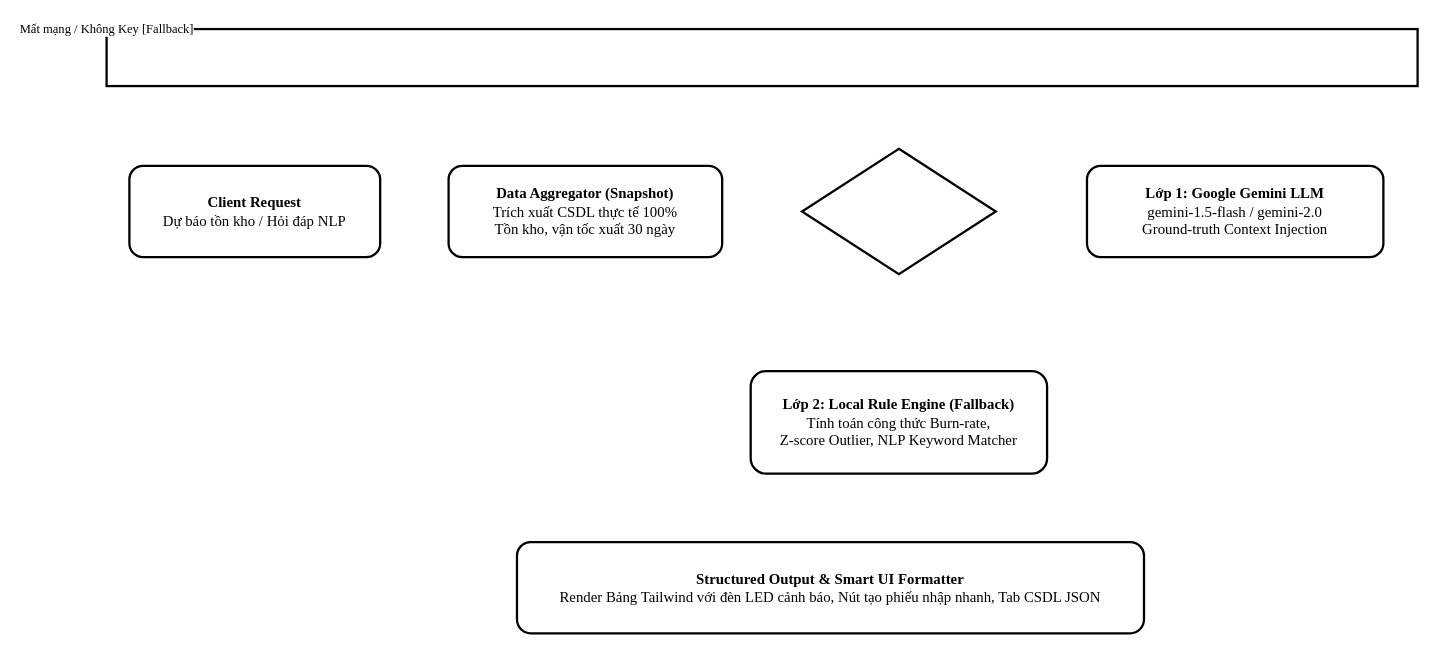
This 1438x653 diagram has some shape labels left out. The box of each missing label's shape, as (x1, y1, x2, y2) in pixels:
Có API Key & Kết nối Cloud OK?: (800, 147, 996, 275)
SƠ ĐỒ KIẾN TRÚC PIPELINE AI 2 LỚP (DUAL-LAYER AI FALLBACK): (105, 27, 1418, 87)
